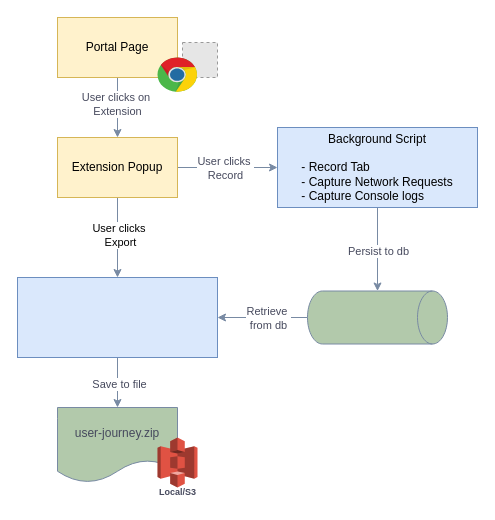
Some shapes in this 495 by 520 pixel diagram are drawn without their labels. Grey dashed boxes stand in for pictures. Here are the shapes that lost their labels. From the top down, the centre of each, then its label:
At pixel 117 317: "Background Script - Compress recordings/logs".
At pixel 377 317: "Chrome Extension Store".
